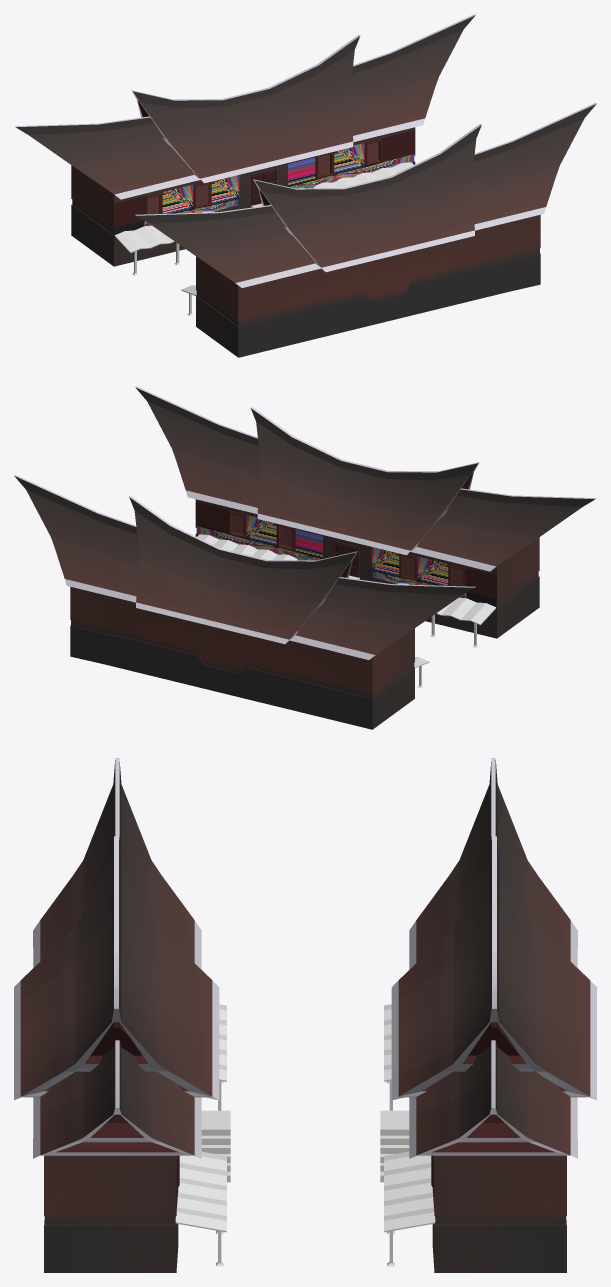
File: gedung pasar.fbx
3 views of the same model, one above another, from view 1: azimuth 30°, elevation 25°; view 2: azimuth 150°, elevation 25°; view 3: azimuth 270°, elevation 25° (orthographic). The views are drawn at different scales.
Parts seen in each view (by area): view 1: Cube.001, pCube28.003, pCube5.003, Cube.003; view 2: Cube.001, pCube28.003, pCube5.003, Cube.003; view 3: pCube28.003, pCube5.003, Cube.001, Cube.003, Cube.
Part boxes in pixels (x1,y1,x2,y2): Cube.001: [71, 127, 540, 357]; pCube28.003: [131, 35, 481, 272]; pCube5.003: [14, 14, 596, 287]; Cube.003: [115, 162, 413, 295]; Cube.001: [70, 499, 539, 729]; pCube28.003: [129, 407, 479, 644]; pCube5.003: [14, 386, 596, 659]; Cube.003: [197, 534, 495, 667]; pCube28.003: [14, 836, 596, 1100]; pCube5.003: [33, 758, 577, 1158]; Cube.001: [44, 1155, 566, 1272]; Cube.003: [175, 1004, 435, 1232]; Cube: [201, 1110, 409, 1182].
Size of the model in its own units: 6780 by 2139 by 4781.
